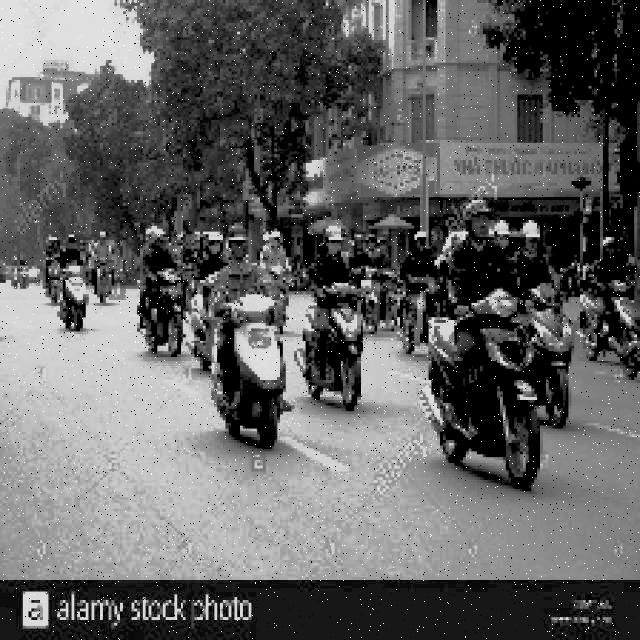Bike: (432, 302, 540, 510), (213, 285, 285, 445), (300, 285, 364, 415), (531, 285, 585, 425), (578, 272, 637, 386), (135, 252, 184, 352), (53, 245, 95, 335)
